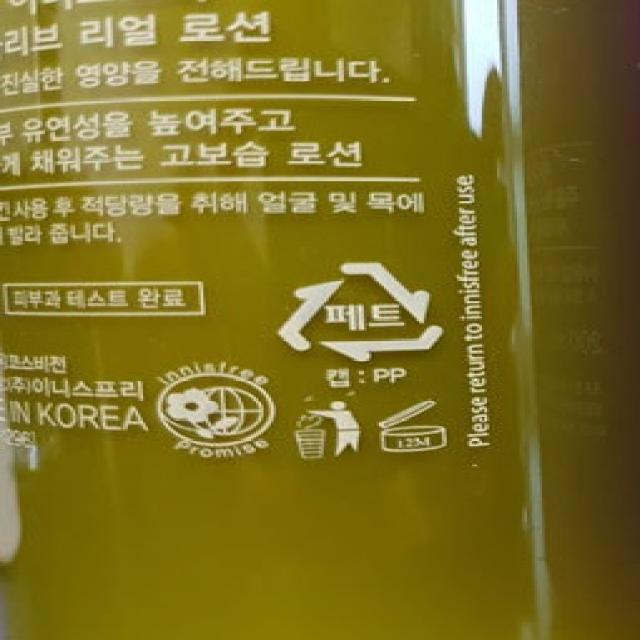PET: (272, 256, 451, 363)
